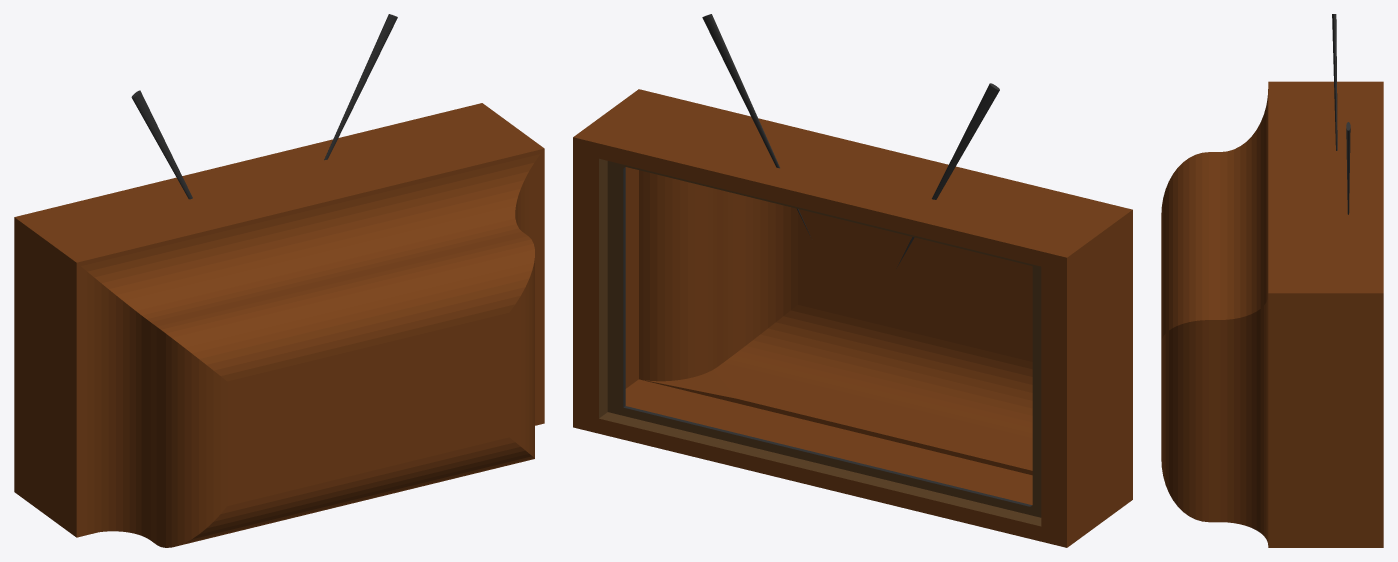
The model's file is teeeveeetiiiime.glb.
3 views of the same model, side by side, from view 1: azimuth 30°, elevation 25°; view 2: azimuth 150°, elevation 25°; view 3: azimuth 270°, elevation 25° (orthographic). The views are drawn at different scales.
Parts seen in each view (by area): view 1: Cube, Cone, Cone.001; view 2: Cube, Cone, Cone.001; view 3: Cube, Cone.001, Cone.
Part boxes in pixels (left/top/right/bottom): Cube: left=14, top=103, right=544, bottom=547; Cone: left=324, top=14, right=397, bottom=160; Cone.001: left=131, top=90, right=192, bottom=199; Cube: left=573, top=89, right=1132, bottom=547; Cone: left=702, top=14, right=810, bottom=236; Cone.001: left=896, top=83, right=999, bottom=268; Cube: left=1161, top=81, right=1383, bottom=547; Cone.001: left=1332, top=14, right=1337, bottom=150; Cone: left=1346, top=122, right=1350, bottom=214.
Size of the model in its own units: 2.26 by 1.87 by 1.
